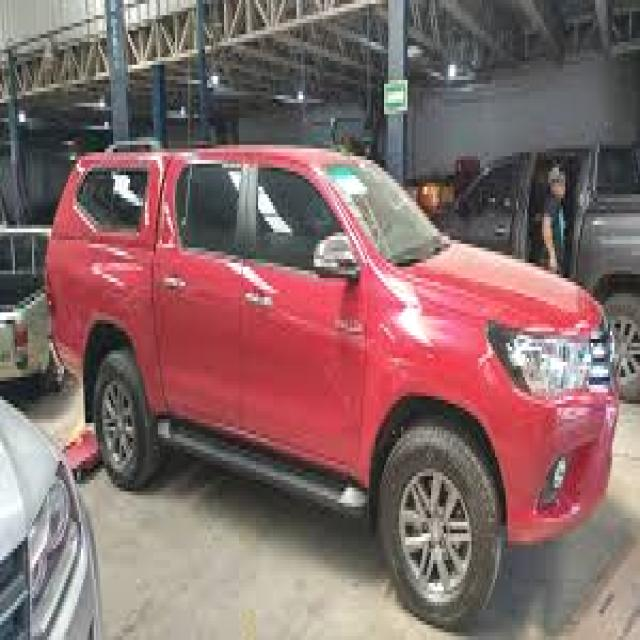CMT: (36, 130, 615, 623)
